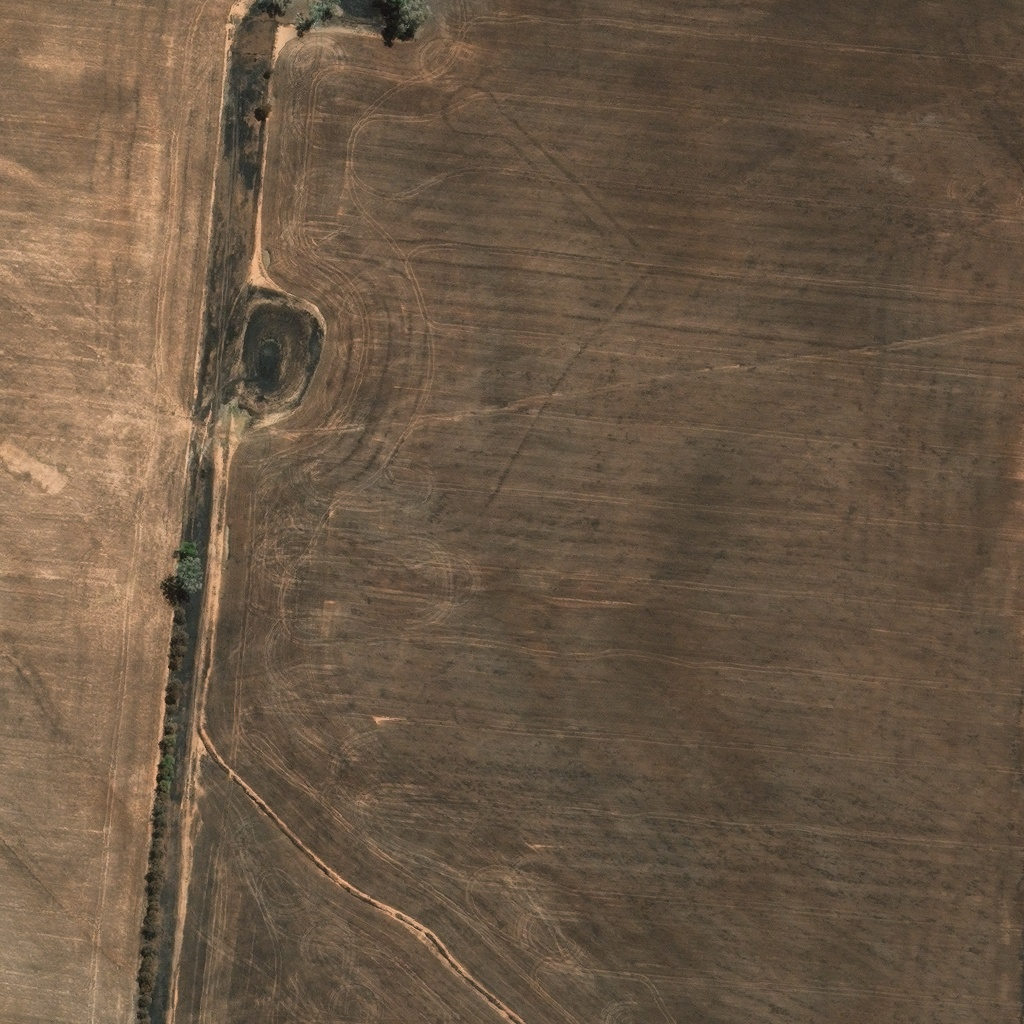4 un-classified: (92, 428, 105, 439)
